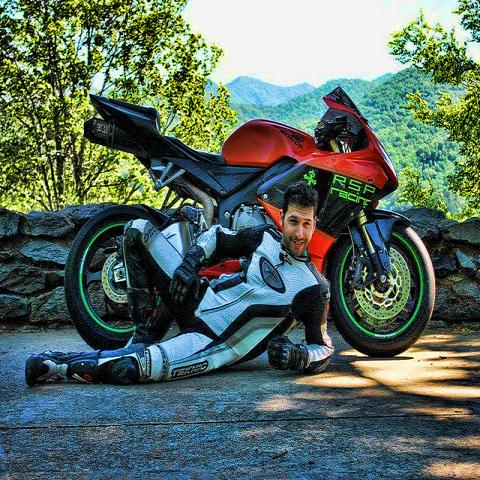motorcycle: (64, 86, 436, 356)
